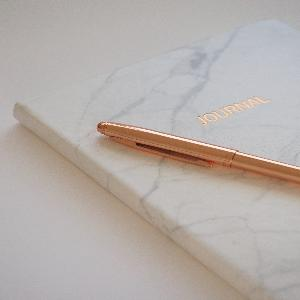pen: (90, 119, 300, 183)
